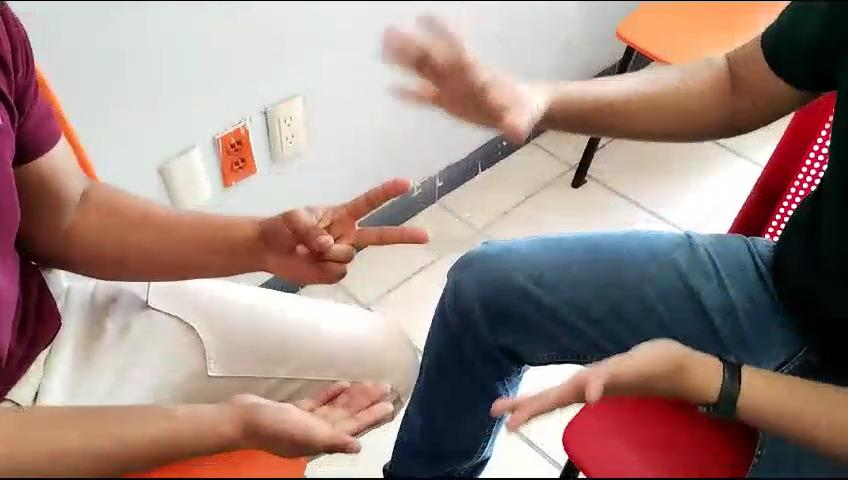Scissor: (245, 168, 448, 294)
